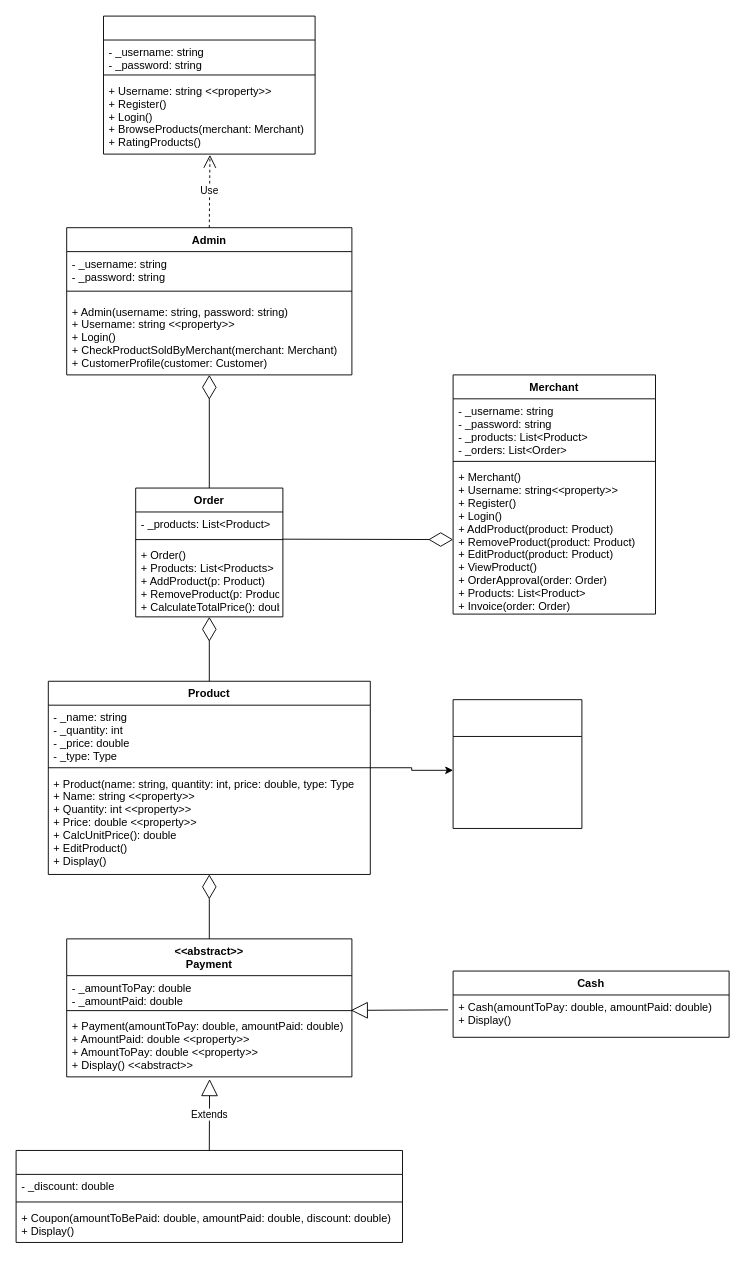
Image size: 745x1261. Some labels were removed from this diagram. The shapes that lost their labels are listed below. From the top down, each one's box as (x1, y1, x2, y2) in pixels, then its label:
(103, 15, 315, 154): Customer
(452, 699, 582, 828): + Foods + Electronics + Toys + Entertainment + Fashion + Leisure + Others
